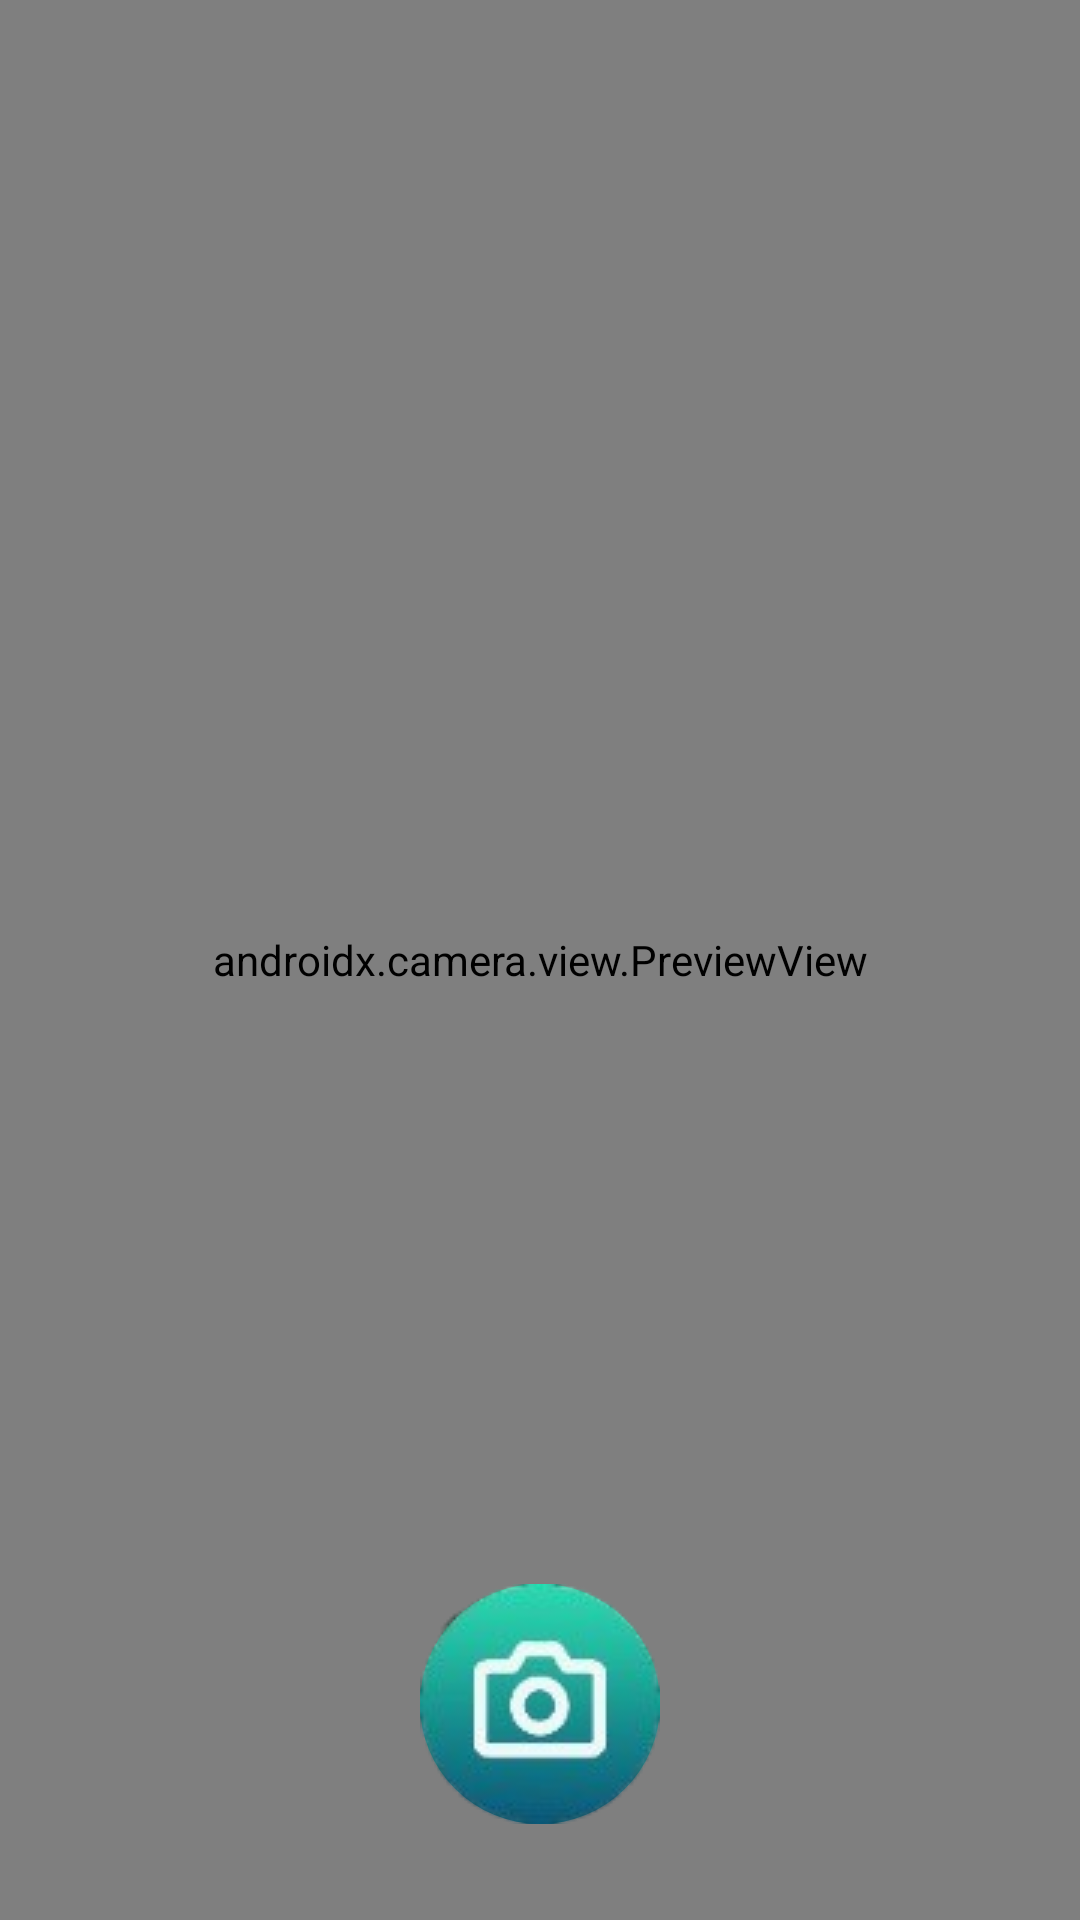

Icon click points for this 1080*1920 phone screenshot, format (x=x, y=y):
Tomar foto: (x=540, y=1704)
